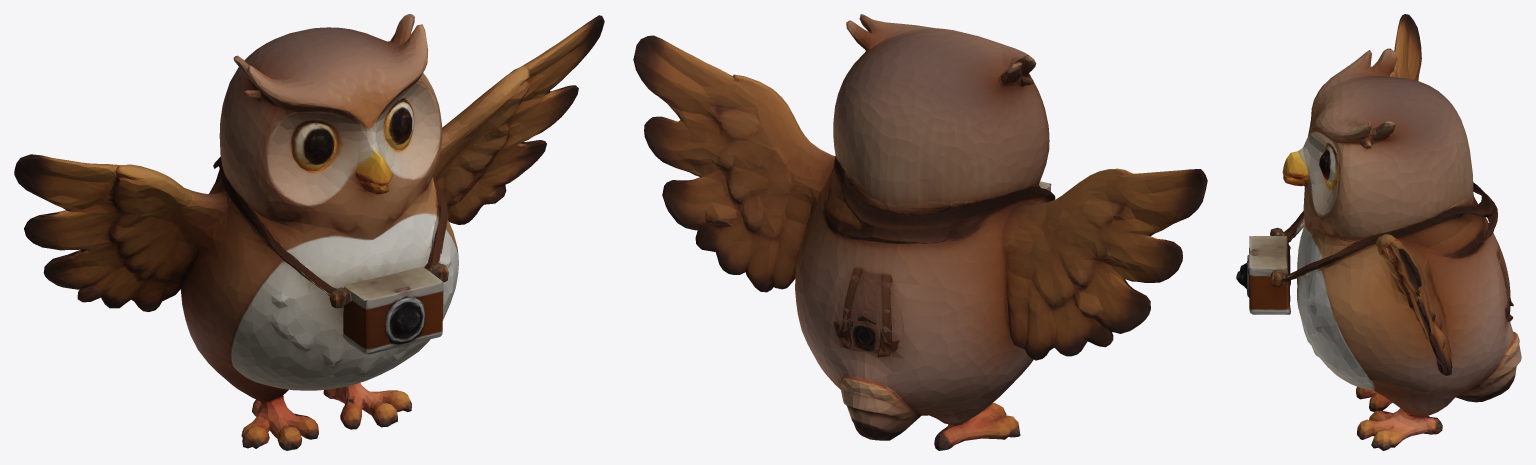
The model's file is mascot_clean.glb.
The picture shows the model from 3 angles, left to right: view 1: azimuth 30°, elevation 25°; view 2: azimuth 150°, elevation 25°; view 3: azimuth 270°, elevation 25°; orthographic projection. The views are drawn at different scales.
Visible parts, largest first — view 1: mascot; view 2: mascot; view 3: mascot.
Part boxes in pixels (left/top/right/bottom): mascot: left=14, top=14, right=604, bottom=450; mascot: left=633, top=14, right=1207, bottom=450; mascot: left=1236, top=14, right=1521, bottom=450.
Size of the model in its own units: 1.56 by 1 by 0.7724.
Materials: 1 (1 with a texture image).
